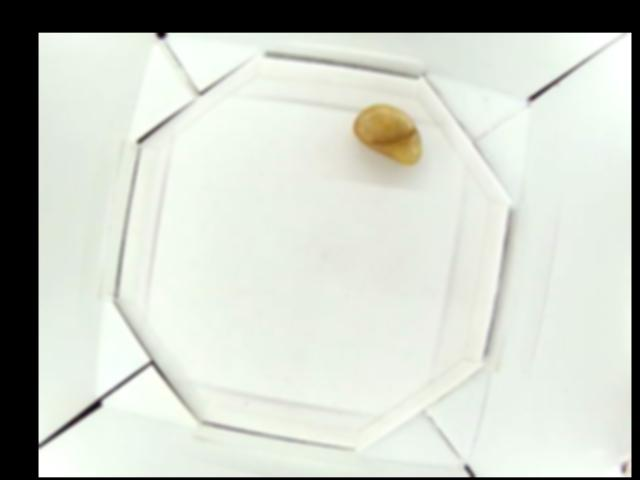Pebble: (349, 103, 429, 165)
